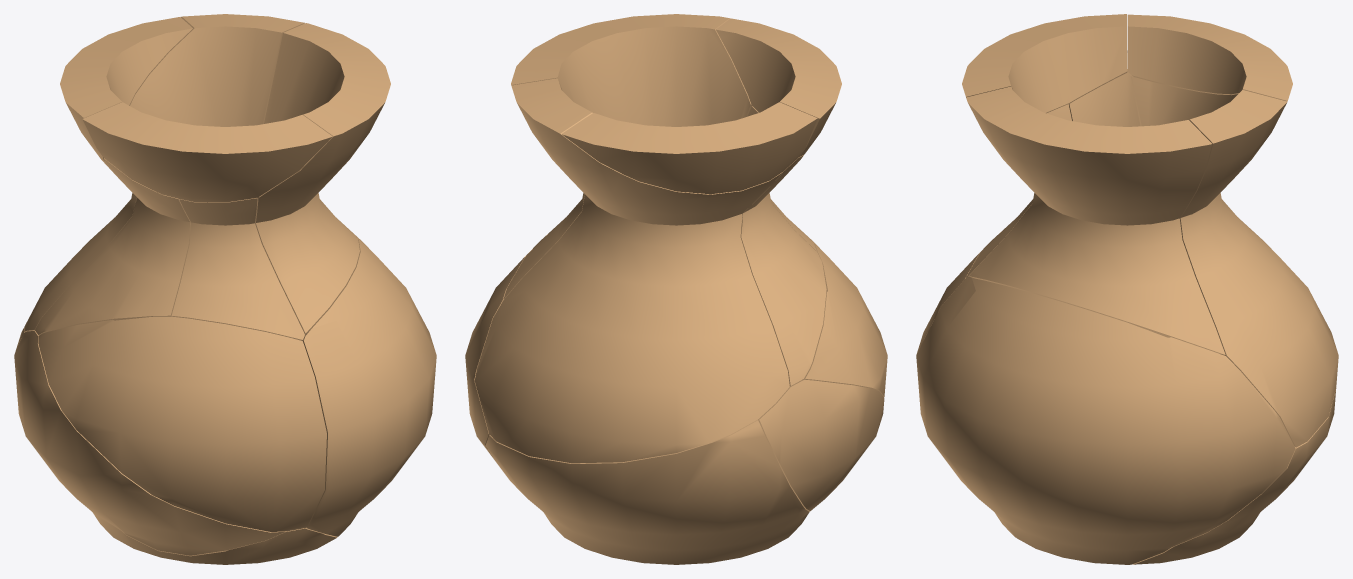
The model's file is potB-Fractures.fbx.
3 views of the same model, side by side, from view 1: azimuth 30°, elevation 25°; view 2: azimuth 150°, elevation 25°; view 3: azimuth 270°, elevation 25° (orthographic).
Parts seen in each view (by area): view 1: potB_Cylinder.015_cell.003, potB_Cylinder.015_cell.005, potB_Cylinder.015_cell.009, potB_Cylinder.015_cell.002, potB_Cylinder.015_cell.008, potB_Cylinder.015_cell.006, potB_Cylinder.015_cell.004, potB_Cylinder.015_cell.001, potB_Cylinder.015_cell.007, potB_Cylinder.015_cell; view 2: potB_Cylinder.015_cell.002, potB_Cylinder.015_cell, potB_Cylinder.015_cell.009, potB_Cylinder.015_cell.007, potB_Cylinder.015_cell.006, potB_Cylinder.015_cell.004, potB_Cylinder.015_cell.008, potB_Cylinder.015_cell.003, potB_Cylinder.015_cell.005; view 3: potB_Cylinder.015_cell.005, potB_Cylinder.015_cell.009, potB_Cylinder.015_cell.002, potB_Cylinder.015_cell.008, potB_Cylinder.015_cell.007, potB_Cylinder.015_cell, potB_Cylinder.015_cell.004, potB_Cylinder.015_cell.001, potB_Cylinder.015_cell.003.
Part boxes in pixels (left/top/right/bottom): potB_Cylinder.015_cell.003: left=38, top=316, right=326, bottom=531; potB_Cylinder.015_cell.005: left=301, top=232, right=436, bottom=536; potB_Cylinder.015_cell.009: left=255, top=23, right=390, bottom=333; potB_Cylinder.015_cell.002: left=24, top=14, right=304, bottom=331; potB_Cylinder.015_cell.008: left=82, top=102, right=332, bottom=202; potB_Cylinder.015_cell.006: left=14, top=331, right=285, bottom=555; potB_Cylinder.015_cell.004: left=35, top=158, right=190, bottom=335; potB_Cylinder.015_cell.001: left=171, top=198, right=304, bottom=340; potB_Cylinder.015_cell.007: left=60, top=17, right=192, bottom=160; potB_Cylinder.015_cell: left=17, top=328, right=337, bottom=564; potB_Cylinder.015_cell.002: left=474, top=78, right=789, bottom=463; potB_Cylinder.015_cell: left=485, top=419, right=809, bottom=564; potB_Cylinder.015_cell.009: left=503, top=14, right=752, bottom=299; potB_Cylinder.015_cell.007: left=561, top=102, right=817, bottom=194; potB_Cylinder.015_cell.006: left=759, top=379, right=884, bottom=511; potB_Cylinder.015_cell.004: left=740, top=155, right=826, bottom=385; potB_Cylinder.015_cell.008: left=716, top=18, right=841, bottom=156; potB_Cylinder.015_cell.003: left=802, top=232, right=887, bottom=396; potB_Cylinder.015_cell.005: left=465, top=232, right=549, bottom=455; potB_Cylinder.015_cell.005: left=916, top=277, right=1295, bottom=564; potB_Cylinder.015_cell.009: left=966, top=86, right=1225, bottom=354; potB_Cylinder.015_cell.002: left=1131, top=76, right=1338, bottom=447; potB_Cylinder.015_cell.008: left=962, top=14, right=1127, bottom=112; potB_Cylinder.015_cell.007: left=1127, top=14, right=1292, bottom=101; potB_Cylinder.015_cell: left=994, top=388, right=1336, bottom=564; potB_Cylinder.015_cell.004: left=1058, top=69, right=1141, bottom=126; potB_Cylinder.015_cell.001: left=966, top=104, right=1071, bottom=278; potB_Cylinder.015_cell.003: left=917, top=232, right=1000, bottom=352.
Bounding box in the file's own units: 84.06 × 95.17 × 84.06.
